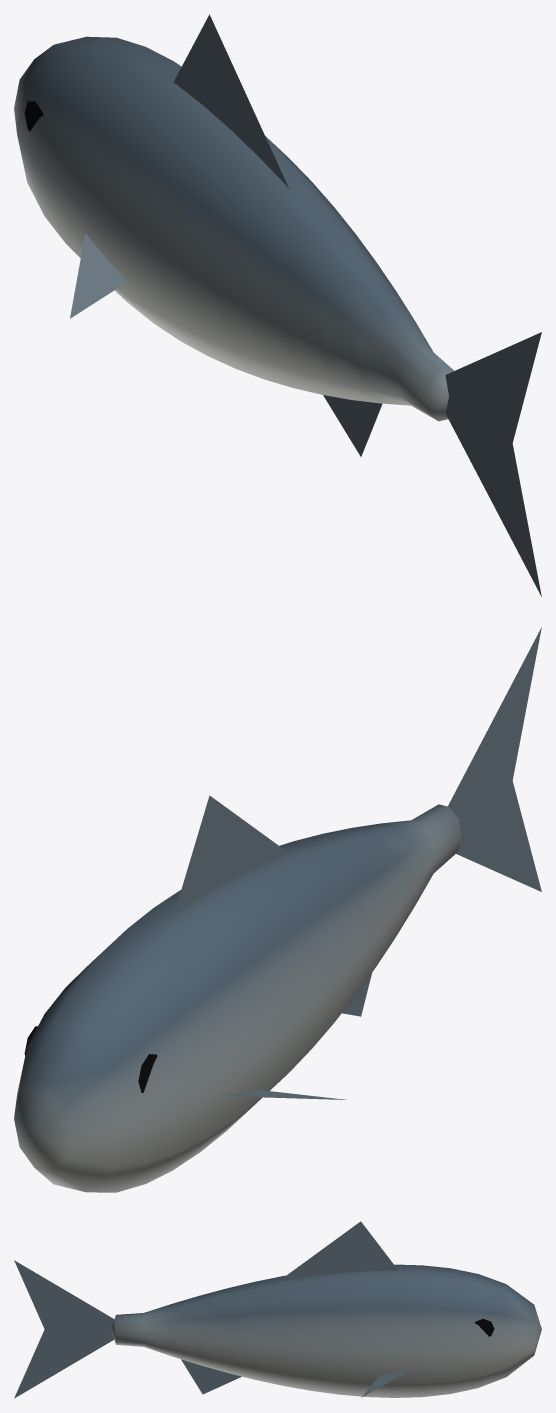
Rendered from trey-riel.glb.
3 renders of one model, top to bottom at view 1: azimuth 30°, elevation 25°; view 2: azimuth 150°, elevation 25°; view 3: azimuth 270°, elevation 25°, orthographic. The views are drawn at different scales.
Visible parts, largest first — view 1: Fish-trey-riel; view 2: Fish-trey-riel; view 3: Fish-trey-riel.
Boxes of the visible parts, x1=… form: Fish-trey-riel: x1=14, y1=14, x2=541, y2=596; Fish-trey-riel: x1=14, y1=627, x2=541, y2=1192; Fish-trey-riel: x1=14, y1=1221, x2=541, y2=1398.
Bounding box in the file's own units: 0.33 × 0.384 × 1.03.
